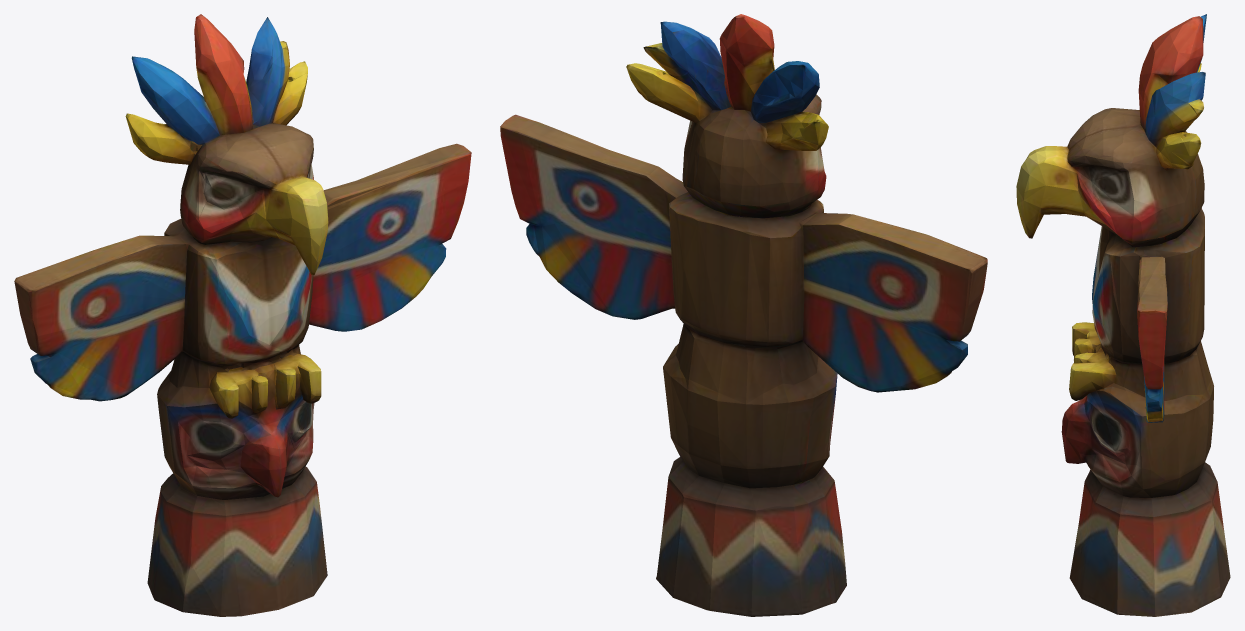
Rendered from d_canopee_totem.glb.
The picture shows the model from 3 angles, left to right: view 1: azimuth 30°, elevation 25°; view 2: azimuth 150°, elevation 25°; view 3: azimuth 270°, elevation 25°; orthographic projection. The views are drawn at different scales.
Visible parts, largest first — view 1: geometry_0; view 2: geometry_0; view 3: geometry_0.
Boxes of the visible parts, x1=… form: geometry_0: x1=14, y1=14, x2=471, y2=616; geometry_0: x1=500, y1=14, x2=987, y2=616; geometry_0: x1=1016, y1=14, x2=1230, y2=616.
Size of the model in its own units: 0.8449 by 1 by 0.3497.
Materials: 1 (1 with a texture image).
